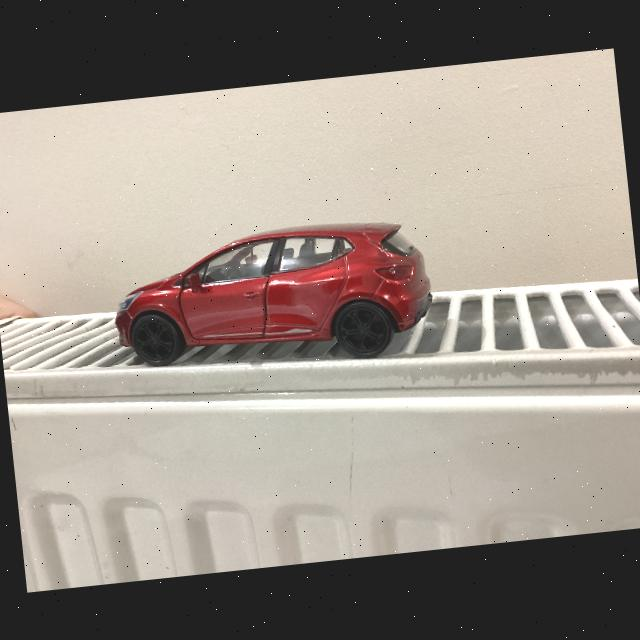Dogru_Jant: (340, 307, 387, 354), (132, 316, 176, 363)
